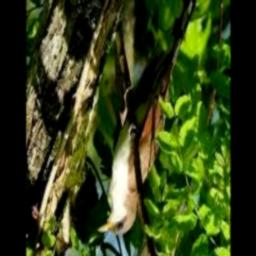Cuckoo: (97, 0, 197, 236)
